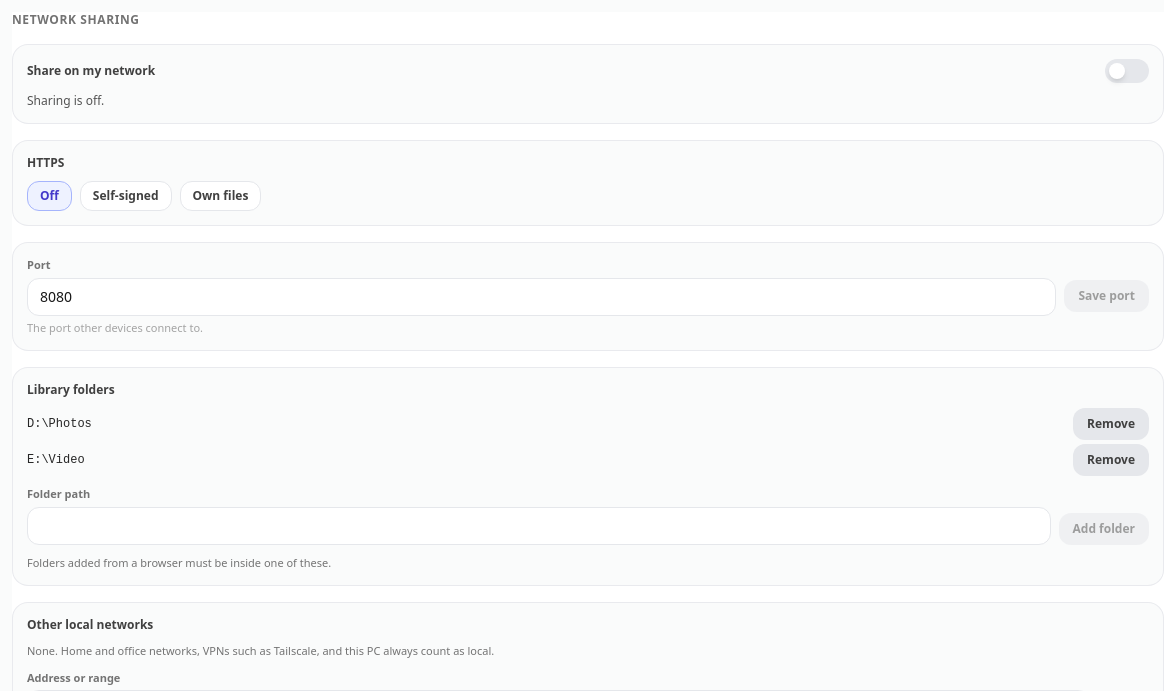
Test: SharingSection › the switch › shows why sharing could not start, and leaves the switch off
This screenshot has width=1164, height=691.
Step 1. Click the switch named "Share on my network" → click(1127, 71), box [1105, 59, 1149, 83]
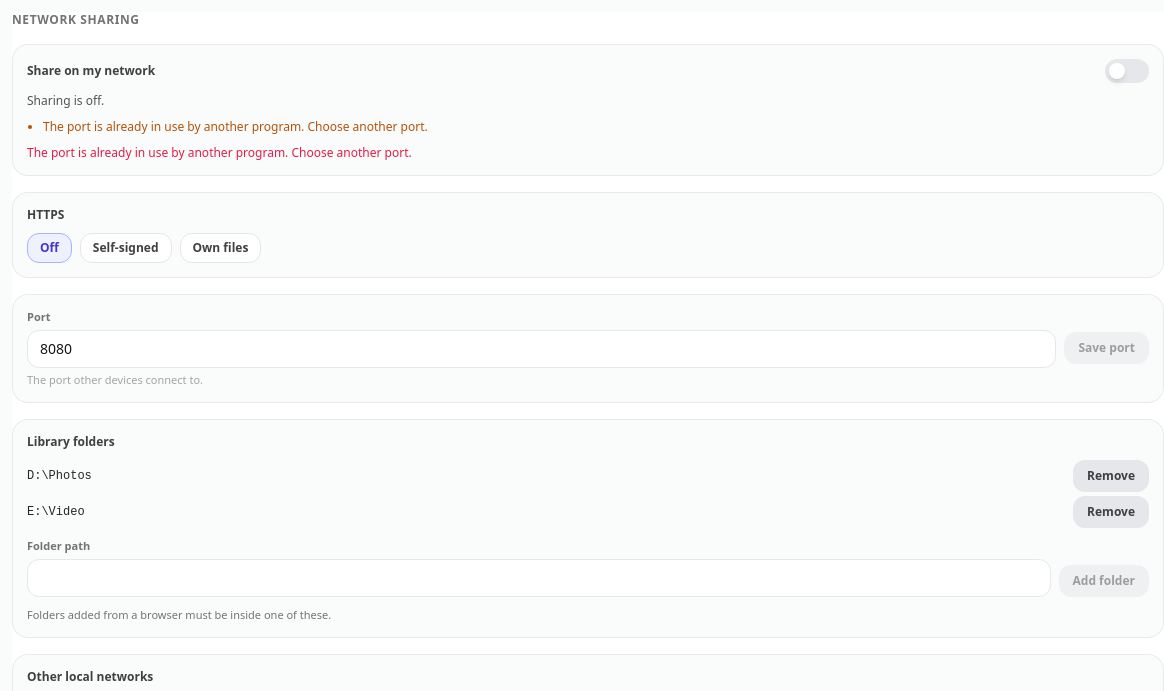
expect the message "The port is already in use by another program. Choose another port." is shown: met, box [27, 144, 412, 161]
